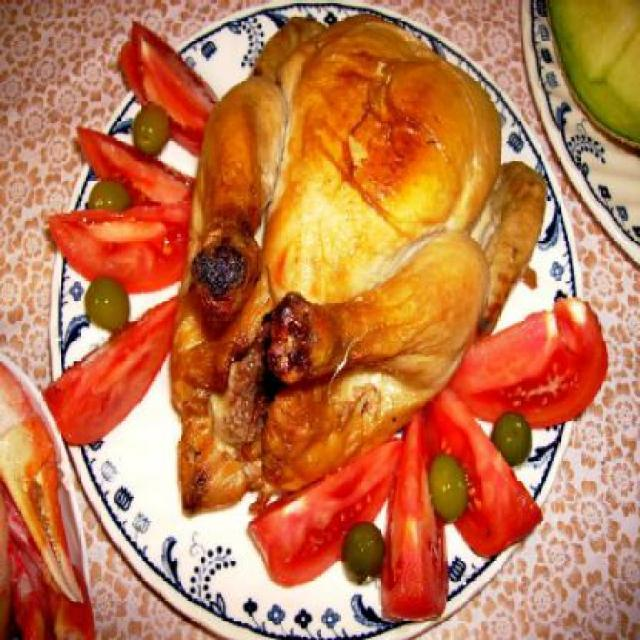Chicken roast: (206, 41, 548, 466)
Tomato: (420, 414, 551, 552), (38, 324, 180, 438), (452, 324, 610, 424), (370, 433, 447, 615), (245, 478, 382, 576), (48, 194, 188, 284), (118, 26, 226, 139), (72, 124, 200, 218)
